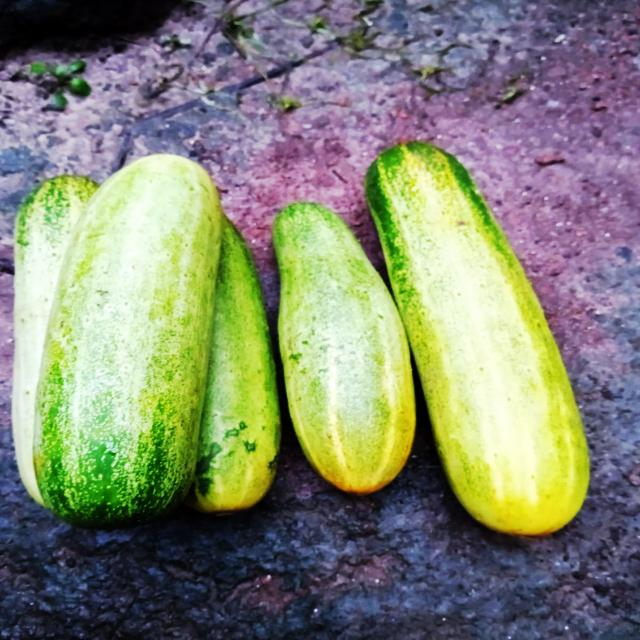Fresh-Cucumber: (363, 138, 593, 540), (32, 152, 224, 530), (271, 200, 418, 498), (13, 172, 102, 509), (187, 212, 284, 517)
